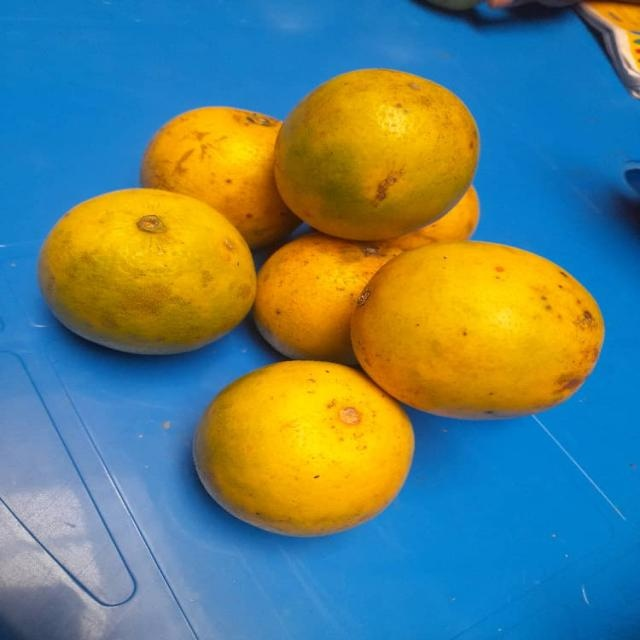agrume: (354, 240, 617, 434), (192, 357, 427, 544), (36, 184, 260, 363), (269, 69, 484, 238), (135, 88, 293, 235), (407, 173, 521, 245)
